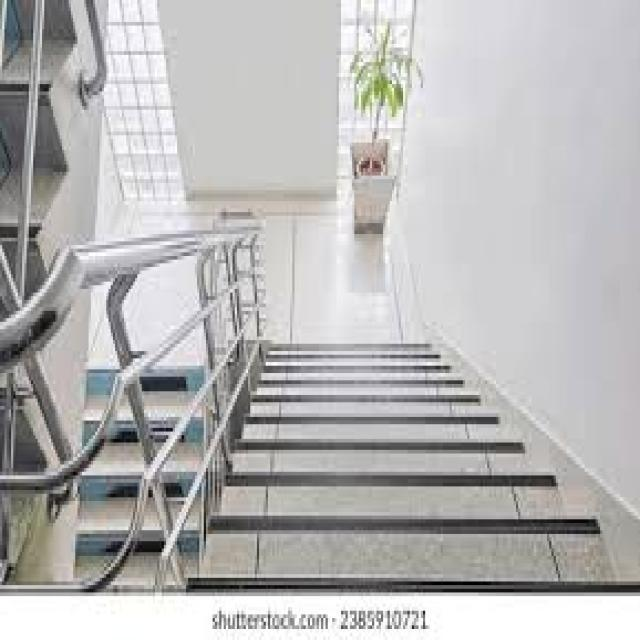stair: (156, 301, 640, 619), (0, 0, 131, 578)
